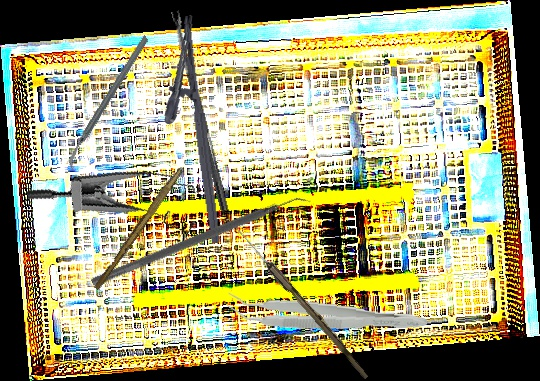Chopper: (31, 34, 186, 172)
Needle Holder: (151, 14, 222, 248)
Scalpel Handle: (93, 165, 183, 293)
Spatula Surgical: (90, 187, 313, 296)
Speculum: (26, 145, 211, 271)
Surgical Spoon: (229, 222, 373, 380), (171, 9, 230, 214)
Tissue Forceps: (226, 291, 428, 336)
